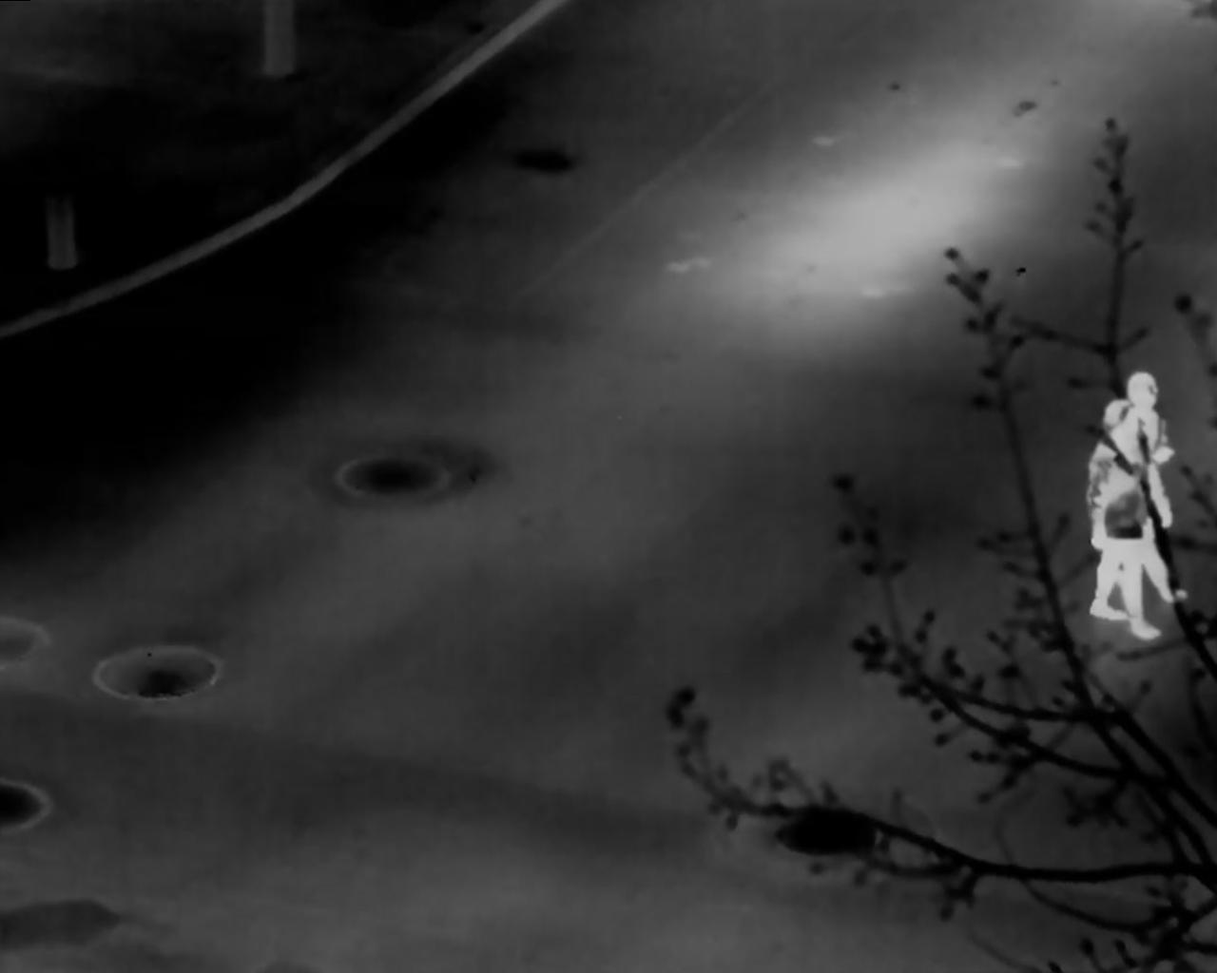person: (1091, 368, 1188, 595), (1083, 399, 1170, 640)
